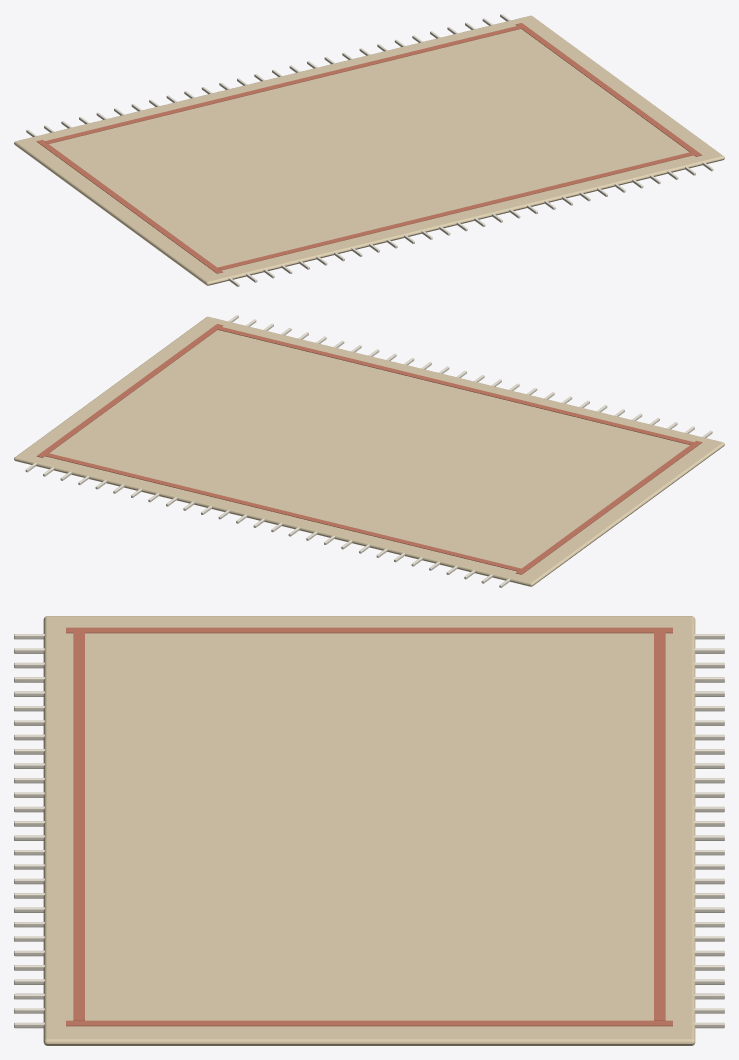
File: rug.glb
3 renders of one model, top to bottom at view 1: azimuth 30°, elevation 25°; view 2: azimuth 150°, elevation 25°; view 3: azimuth 270°, elevation 25°, orthographic. The views are drawn at different scales.
Parts seen in each view (by area): view 1: Woven rug, Rug border.002, Rug border.003, Rug border, Rug border.001; view 2: Woven rug, Rug border.002, Rug border.003, Rug border, Rug border.001; view 3: Woven rug, Rug border.002, Rug border.003, Rug border.001, Rug border.
Part boxes in pixels (box(x1,y1,x2,y2)): Woven rug: box(14, 15, 724, 285); Rug border.002: box(45, 26, 521, 143); Rug border.003: box(218, 152, 693, 270); Rug border: box(36, 139, 222, 273); Rug border.001: box(515, 23, 702, 156); Woven rug: box(14, 316, 724, 586); Rug border.002: box(45, 453, 520, 571); Rug border.003: box(217, 327, 693, 444); Rug border: box(516, 440, 702, 574); Rug border.001: box(36, 324, 223, 457); Woven rug: box(43, 616, 695, 1045); Rug border.002: box(654, 632, 665, 1020); Rug border.003: box(73, 632, 84, 1020); Rug border.001: box(66, 1020, 672, 1026); Rug border: box(66, 627, 672, 633).
Size of the model in its own units: 3.4 by 0.03 by 2.4.
